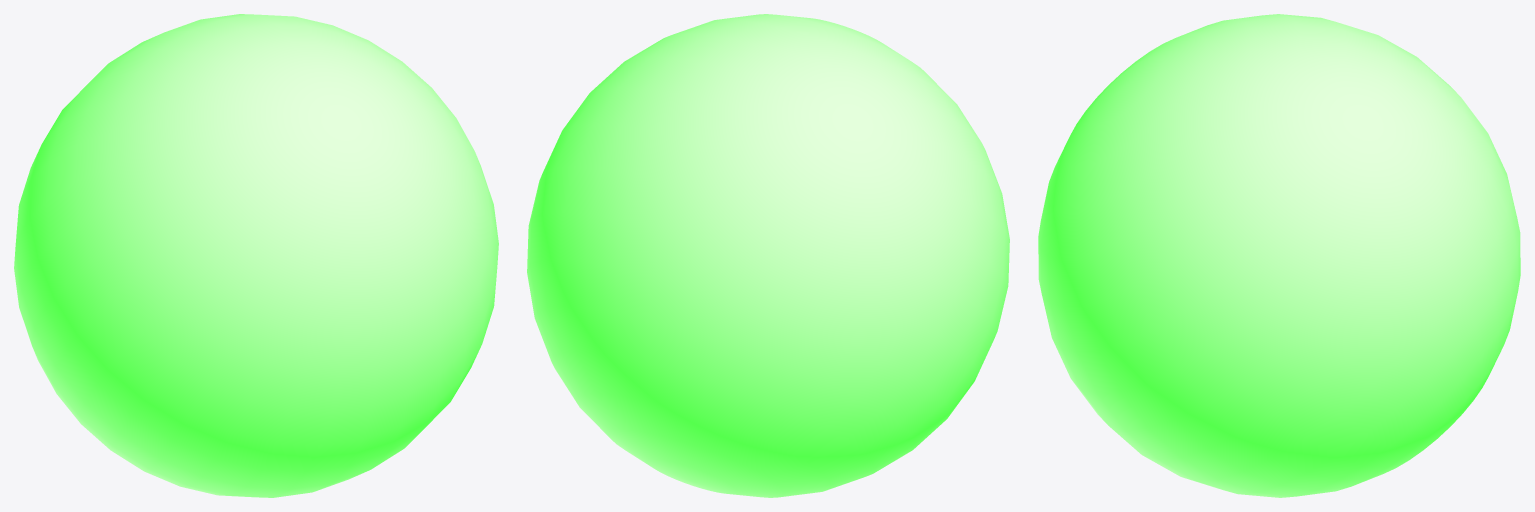
The model's file is Core3.glb.
3 renders of one model, left to right at view 1: azimuth 30°, elevation 25°; view 2: azimuth 150°, elevation 25°; view 3: azimuth 270°, elevation 25°, orthographic.
Parts seen in each view (by area): view 1: Sphere.002; view 2: Sphere.002; view 3: Sphere.002.
Part boxes in pixels (box(x1,y1,x2,y2)): Sphere.002: box(14, 14, 498, 497); Sphere.002: box(527, 14, 1009, 497); Sphere.002: box(1038, 14, 1520, 497).
Size of the model in its own units: 13.2 by 13.15 by 13.15.
